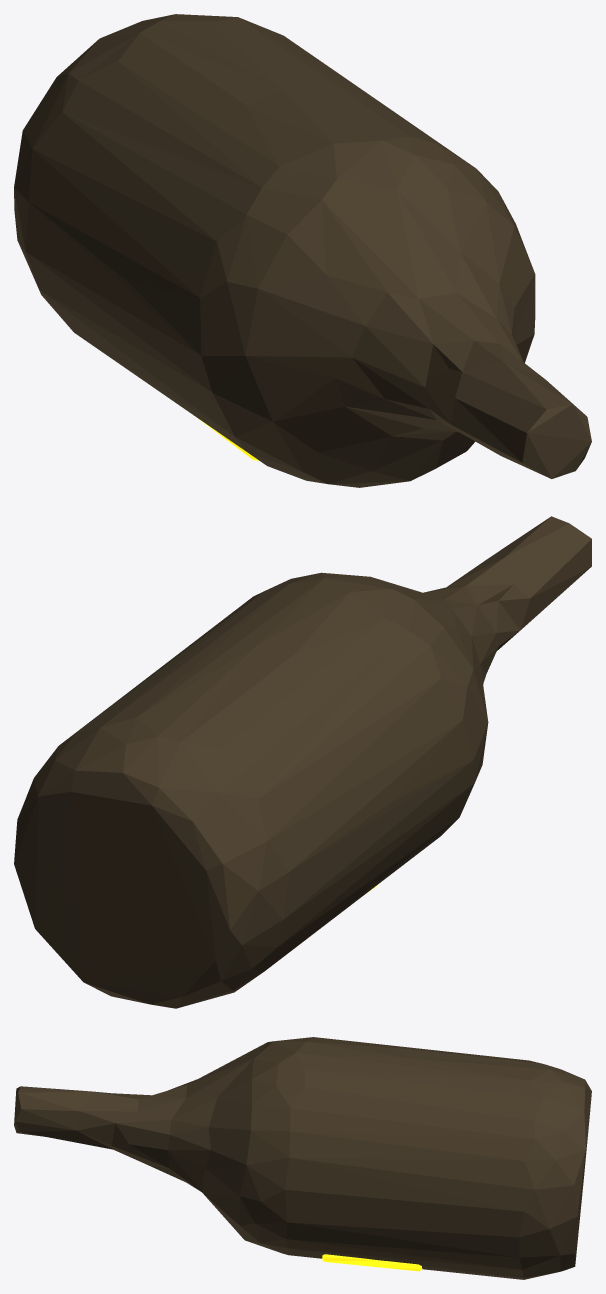
File: rum.fbx
The picture shows the model from 3 angles, top to bottom: view 1: azimuth 30°, elevation 25°; view 2: azimuth 150°, elevation 25°; view 3: azimuth 270°, elevation 25°; orthographic projection. The views are drawn at different scales.
Visible parts, largest first — view 1: Layer_6; view 2: Layer_6; view 3: Layer_6.
Boxes of the visible parts, x1,y1,x2,y2 form: Layer_6: (14, 14, 591, 487); Layer_6: (14, 516, 591, 1008); Layer_6: (14, 1037, 591, 1279).
Bounding box in the file's own units: 81.17 × 82.13 × 199.
